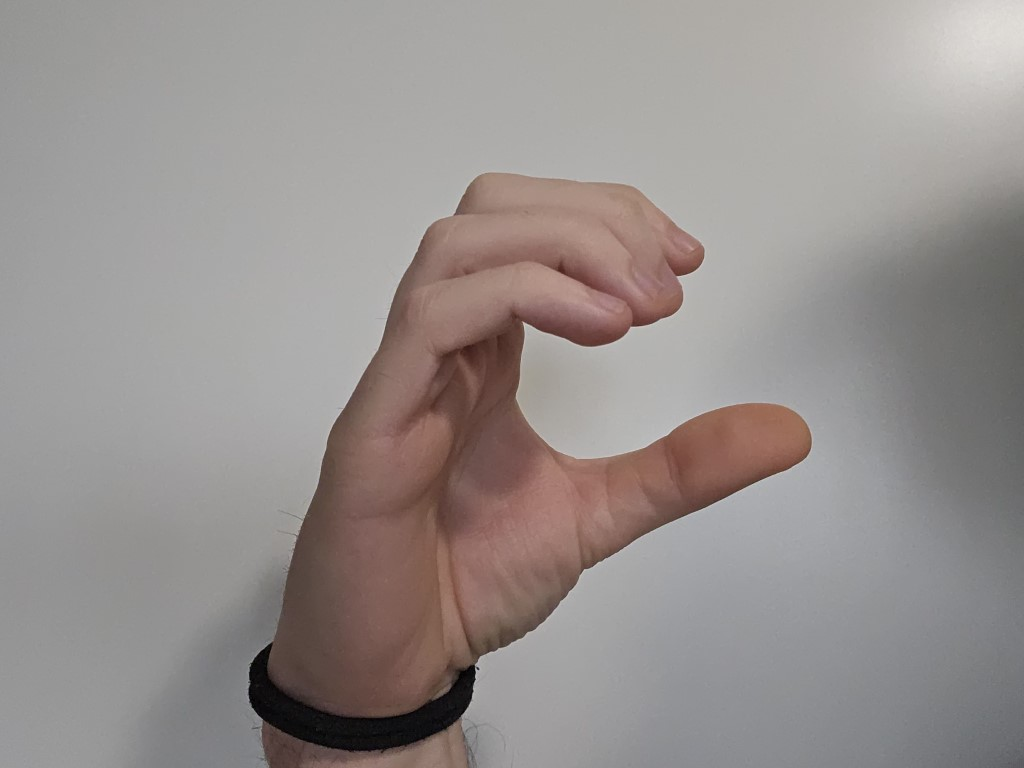c: (215, 123, 840, 663)
